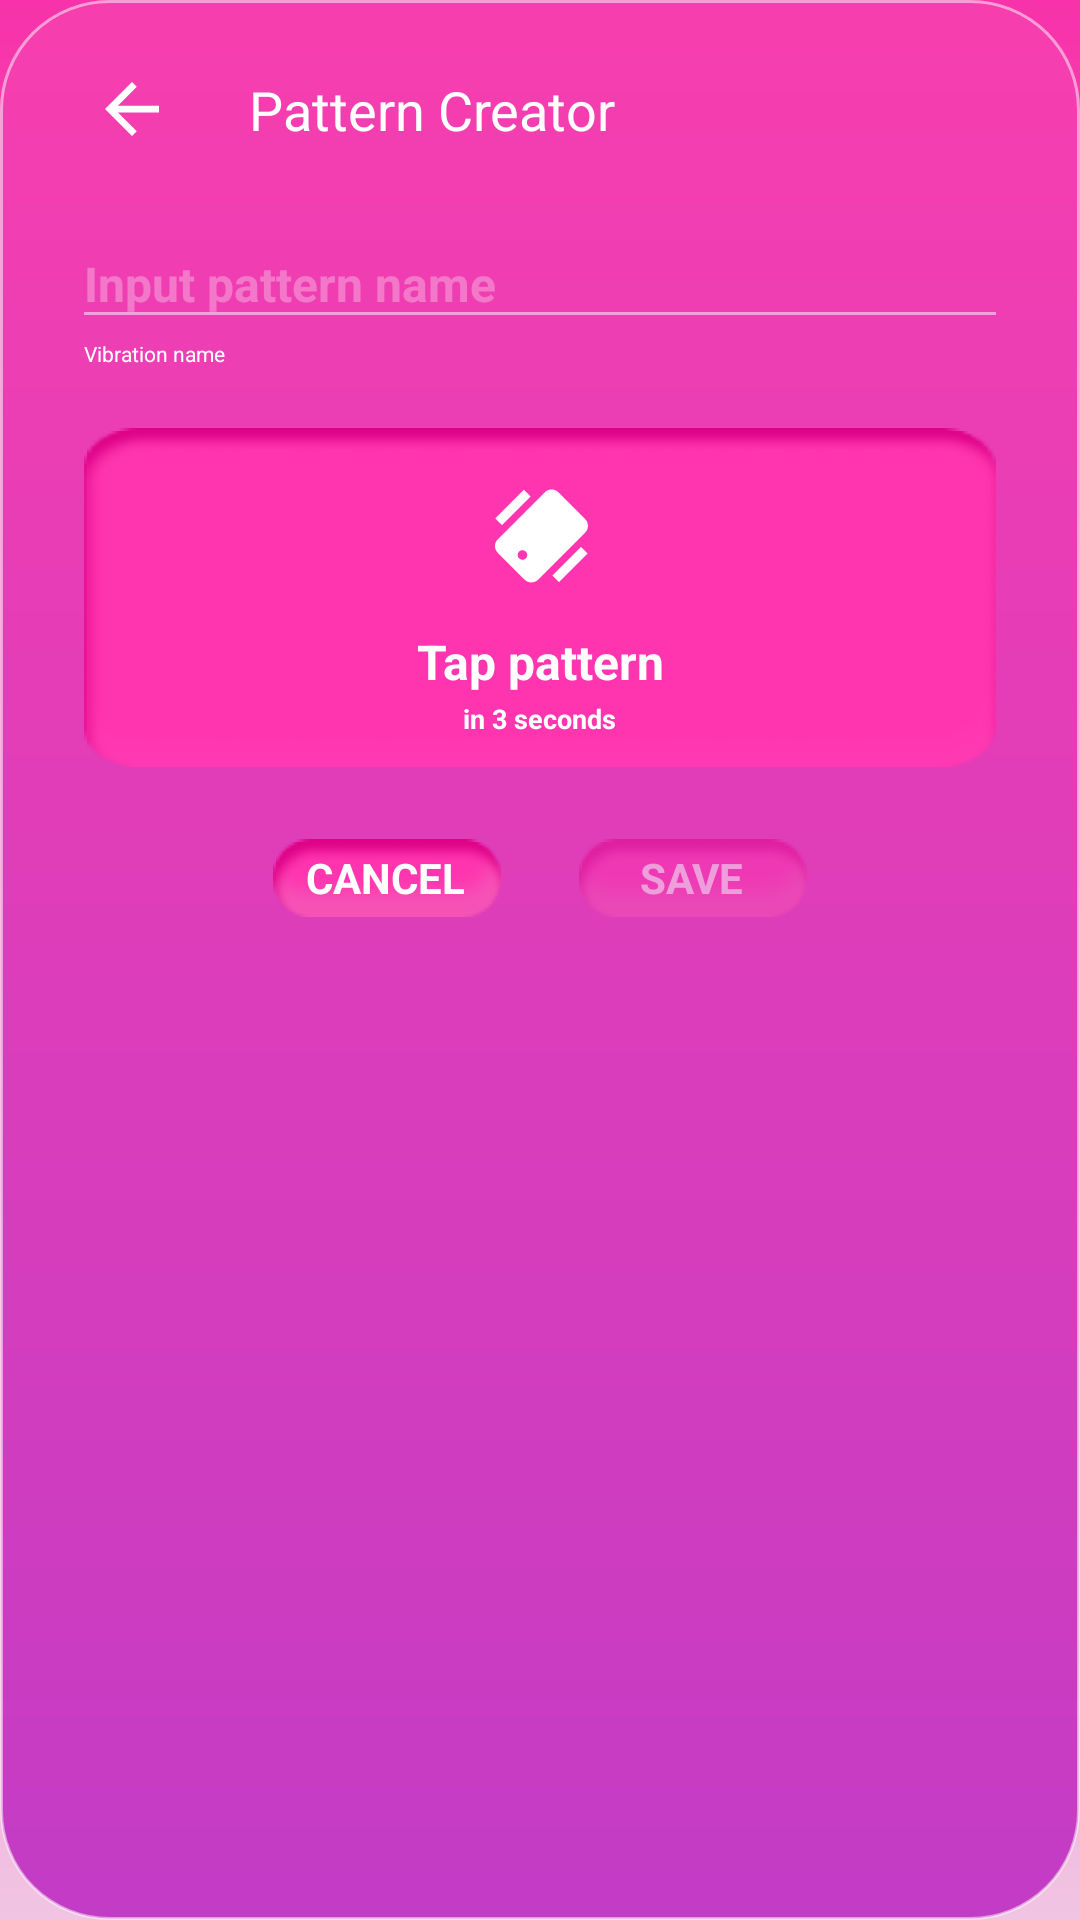

Icons on this 1080 × 1920 Android screen, each with its box as (x1, y1, x2, y2):
back: (105, 82, 159, 136)
